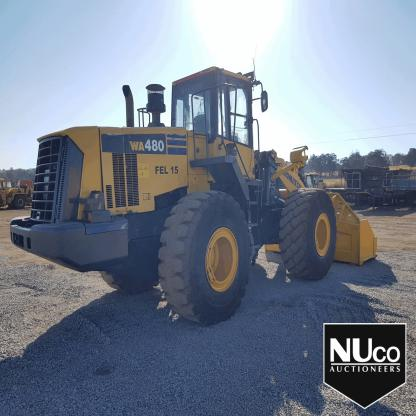bull_dozer/loader/grader: (8, 62, 387, 326)
